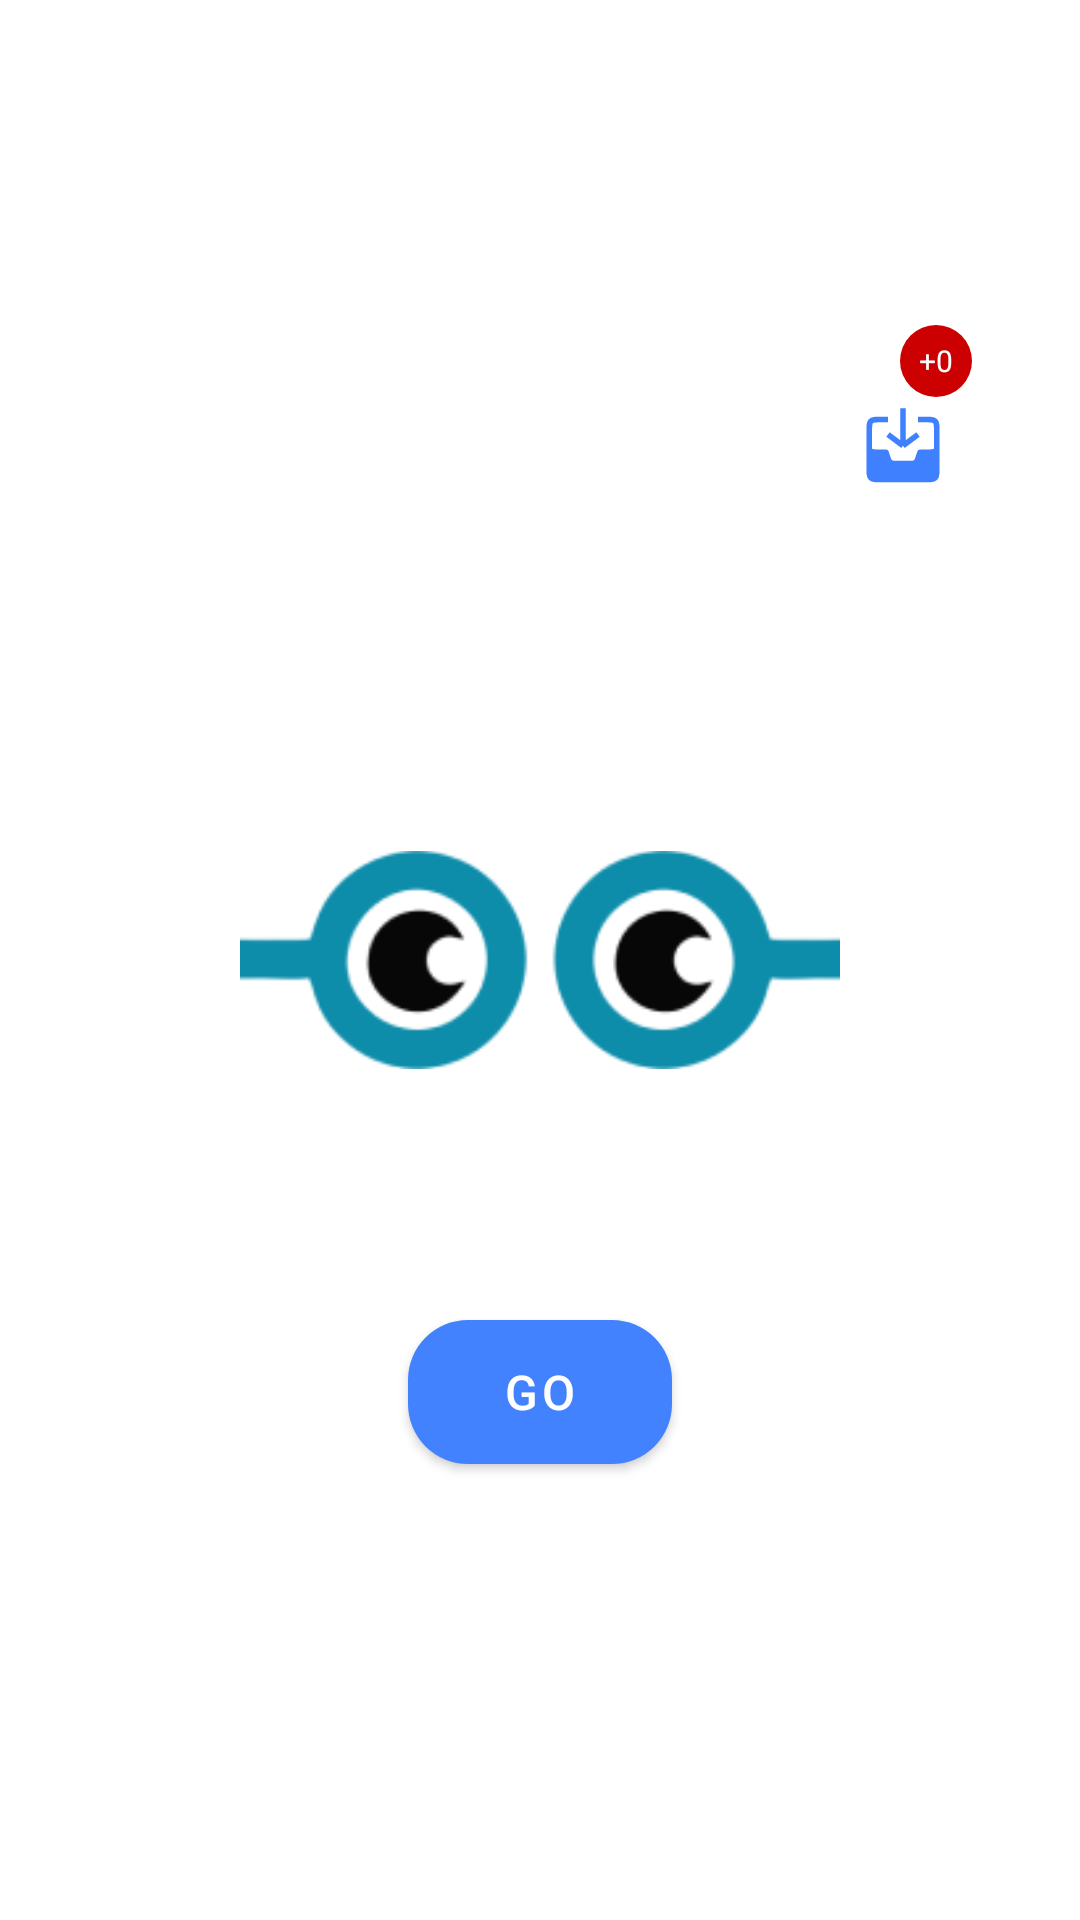

Screen size 1080px x 1920px. Icon name, then its center in pixels as (x,y):
Storage Icon: (903,445)
